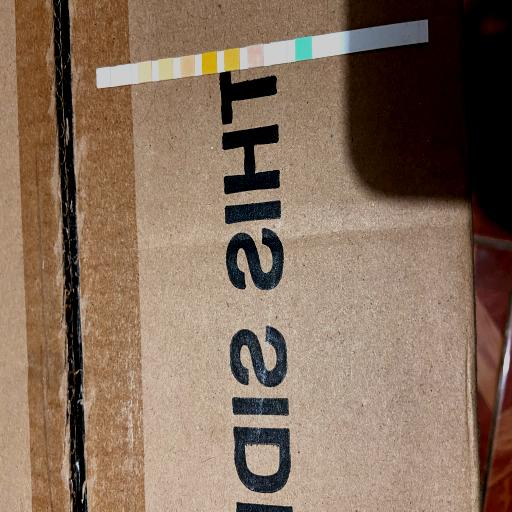Bilirubin: (271, 42, 287, 62)
Blood: (202, 54, 216, 72)
Glucose: (296, 38, 312, 58)
Ketone: (248, 46, 262, 66)
Leukocytes: (98, 68, 110, 88)
Nitrite: (118, 64, 130, 84)
Protein: (159, 60, 173, 79)
SpGravity: (224, 50, 240, 70)
Urobilinogen: (138, 63, 152, 81)
pH: (180, 56, 194, 76)
strip: (96, 19, 429, 89)
